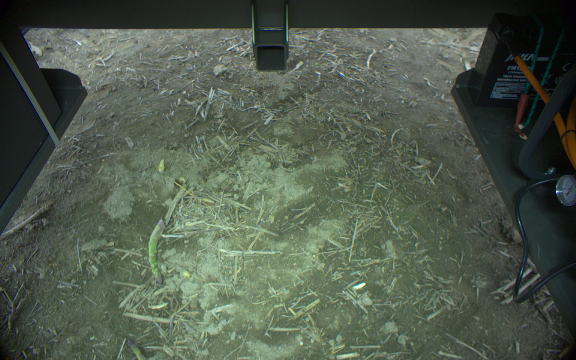aspa: (146, 217, 170, 286), (125, 338, 145, 360)
